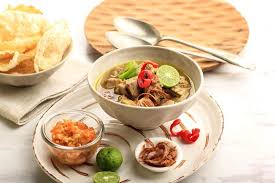soto: (79, 44, 211, 130)
